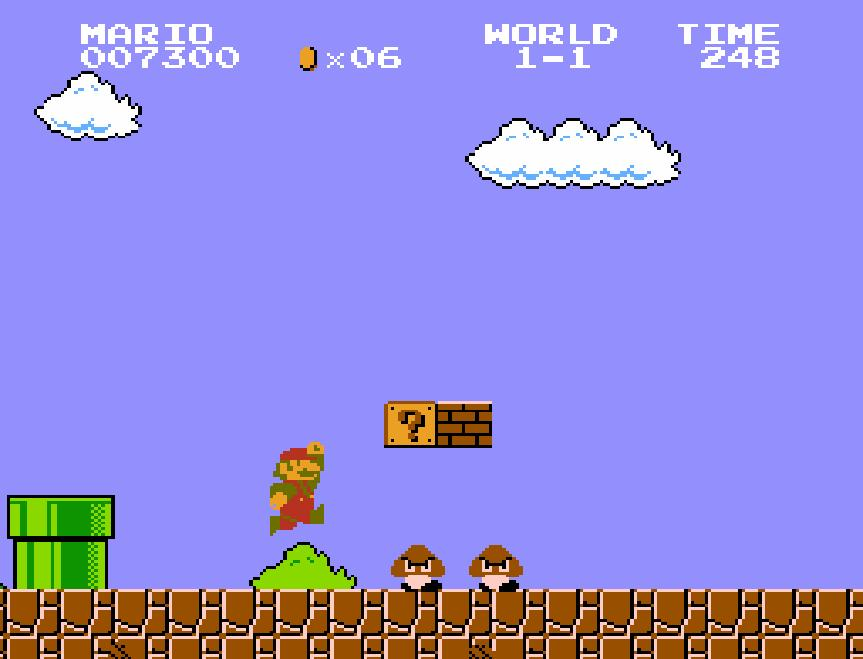big_mario: (267, 440, 325, 538)
